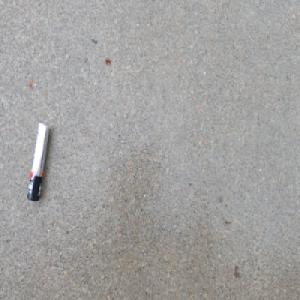Battery: (25, 120, 50, 203)
